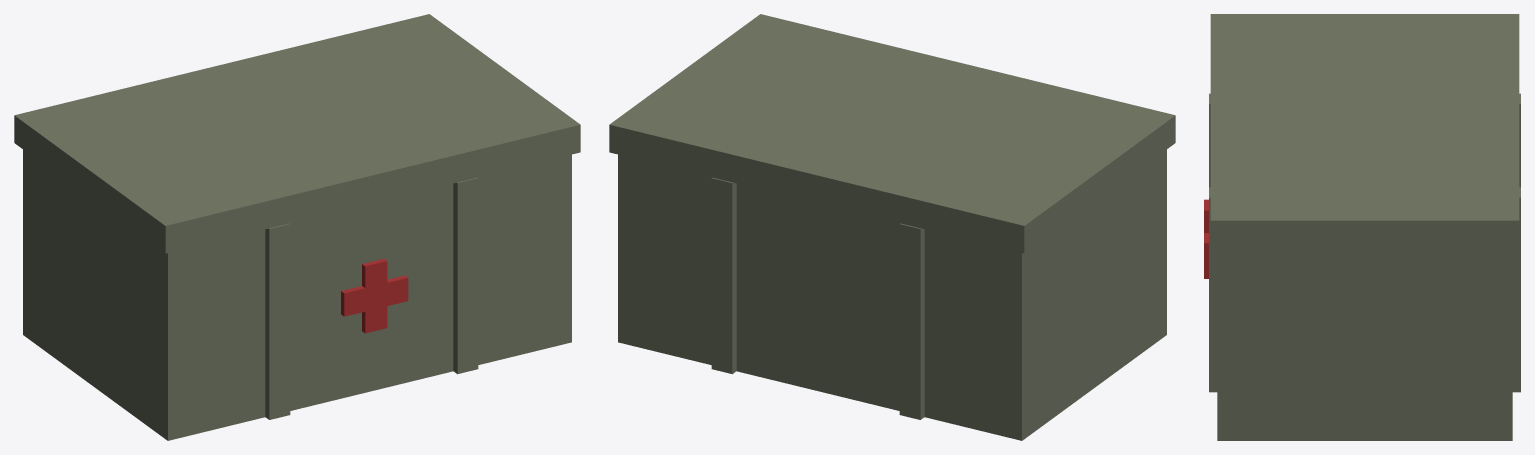
The model's file is medical_crate.glb.
The picture shows the model from 3 angles, left to right: view 1: azimuth 30°, elevation 25°; view 2: azimuth 150°, elevation 25°; view 3: azimuth 270°, elevation 25°; orthographic projection. The views are drawn at different scales.
Parts seen in each view (by area): view 1: medical_crate; view 2: medical_crate; view 3: medical_crate.
Boxes of the visible parts, box(x1,y1,x2,y2) form: medical_crate: box(14, 14, 580, 440); medical_crate: box(609, 14, 1175, 440); medical_crate: box(1204, 14, 1520, 440).
Size of the model in its own units: 0.596 by 0.3 by 0.386.
